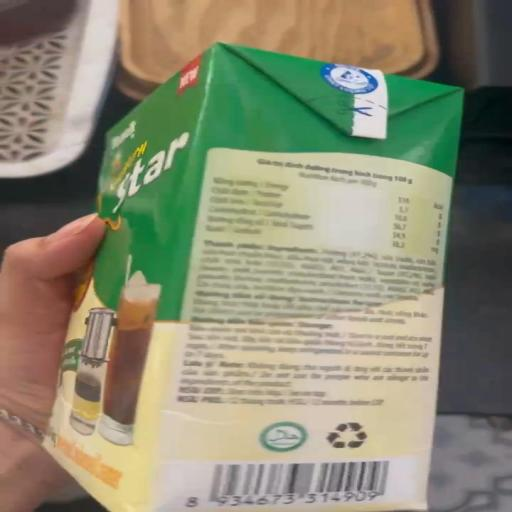ly_giay: (45, 44, 462, 512)
